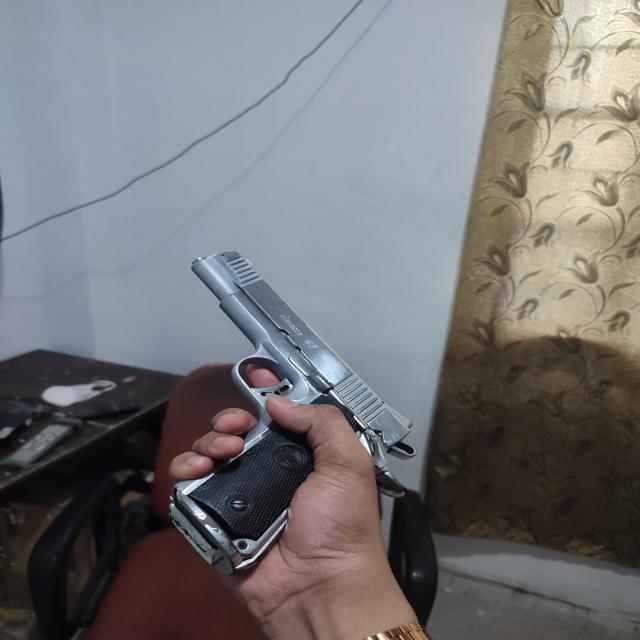pistol: (166, 250, 416, 571)
